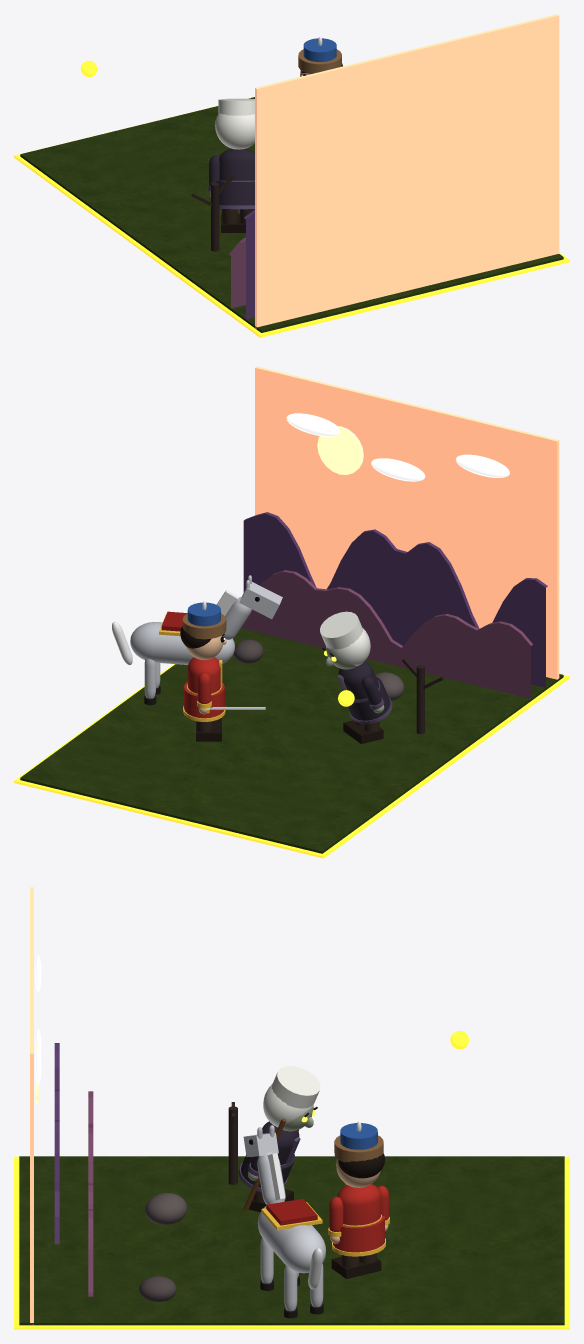
3 views of the same model, one above another, from view 1: azimuth 30°, elevation 25°; view 2: azimuth 150°, elevation 25°; view 3: azimuth 270°, elevation 25° (orthographic). The views are drawn at different scales.
Parts seen in each view (by area): view 1: Аспан, Жер, Жиек, Kimeshek, Torso, Жота 2, Жота, Skirt, Borik, Turban, Діңі, Rim; view 2: Жер, Аспан, Жота, Жота 2, Torso (×3), Жиек, Бұлт (×3), Күн, Skirt (×2), Turban, HeadMesh, Kimeshek (+4 smaller); view 3: Жер, Жиек, Torso (×3), Тас (×2), Аспан, Turban, Жота 2, Skirt, Жота, Saddle, Kimeshek, Borik (+6 smaller).
Part boxes in pixels (left/top/right/bottom): Аспан: left=255, top=14, right=559, bottom=328; Жер: left=20, top=97, right=563, bottom=332; Жиек: left=14, top=98, right=569, bottom=337; Kimeshek: left=215, top=113, right=254, bottom=149; Torso: left=219, top=148, right=254, bottom=180; Жота 2: left=229, top=237, right=245, bottom=308; Жота: left=244, top=210, right=254, bottom=319; Skirt: left=216, top=181, right=254, bottom=205; Borik: left=303, top=38, right=336, bottom=61; Turban: left=218, top=98, right=254, bottom=115; Діңі: left=211, top=182, right=219, bottom=251; Rim: left=298, top=49, right=341, bottom=73; Жер: left=20, top=628, right=563, bottom=853; Аспан: left=255, top=366, right=559, bottom=679; Жота: left=243, top=512, right=547, bottom=687; Жота 2: left=241, top=570, right=532, bottom=698; Torso (×3): left=130, top=622, right=378, bottom=699; Жиек: left=14, top=664, right=569, bottom=858; Бұлт (×3): left=286, top=413, right=509, bottom=481; Күн: left=317, top=426, right=363, bottom=474; Skirt (×2): left=184, top=677, right=390, bottom=720; Turban: left=320, top=611, right=362, bottom=649; HeadMesh: left=239, top=582, right=282, bottom=619; Kimeshek: left=325, top=628, right=370, bottom=666; Жер: left=19, top=1156, right=564, bottom=1325; Жиек: left=14, top=1156, right=569, bottom=1329; Torso (×3): left=257, top=1121, right=380, bottom=1273; Тас (×2): left=139, top=1192, right=186, bottom=1301; Аспан: left=30, top=887, right=33, bottom=1324; Turban: left=271, top=1066, right=320, bottom=1108; Жота 2: left=88, top=1091, right=93, bottom=1296; Skirt: left=333, top=1215, right=384, bottom=1252; Жота: left=54, top=1043, right=59, bottom=1244; Saddle: left=266, top=1199, right=317, bottom=1225; Kimeshek: left=263, top=1084, right=313, bottom=1127; Borik: left=340, top=1123, right=377, bottom=1149.
Size of the model in its own units: 1 by 0.7206 by 1.33.
Materials: 34 (1 with a texture image).
